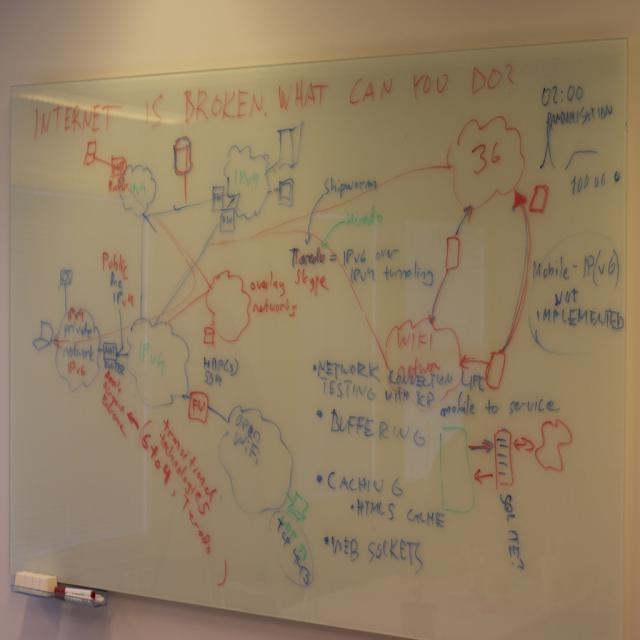Whiteboard: (6, 34, 630, 639)
